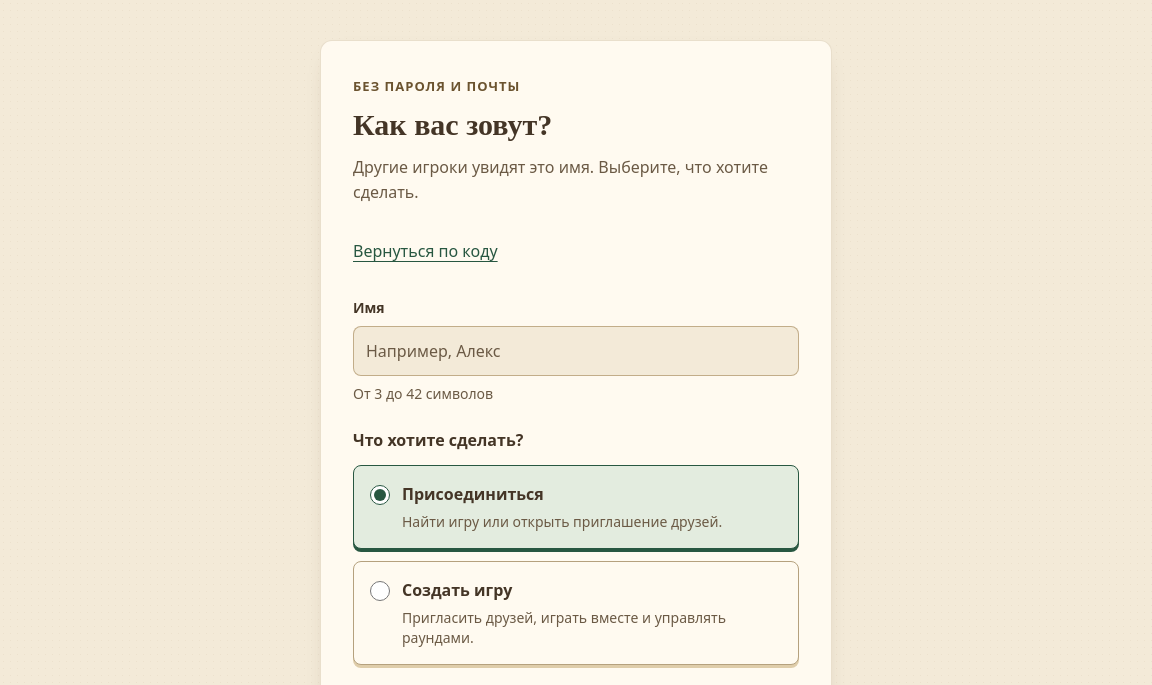
Register › shows backend 400 message
The width and height of the screenshot is (1152, 685).
Type "Alice" into the field labelled "Имя". click: (576, 351)
box: [353,326,799,376]
(page scrolled)
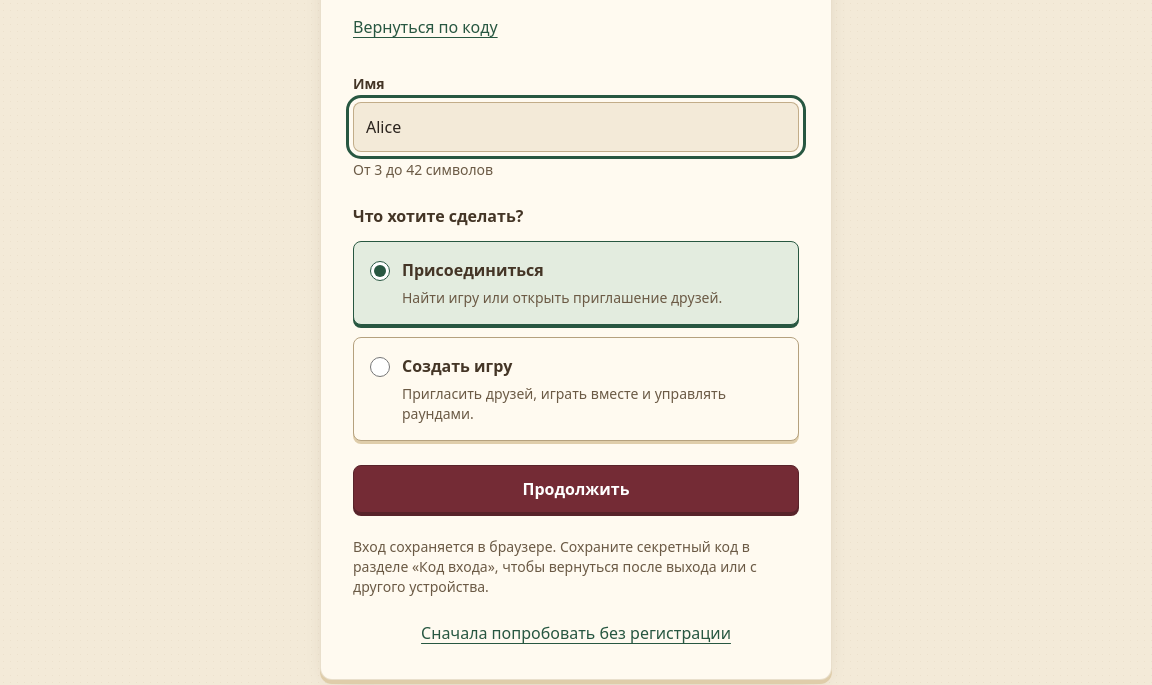
Click the button "Продолжить". click: (576, 489)
box: [353,465,799,513]
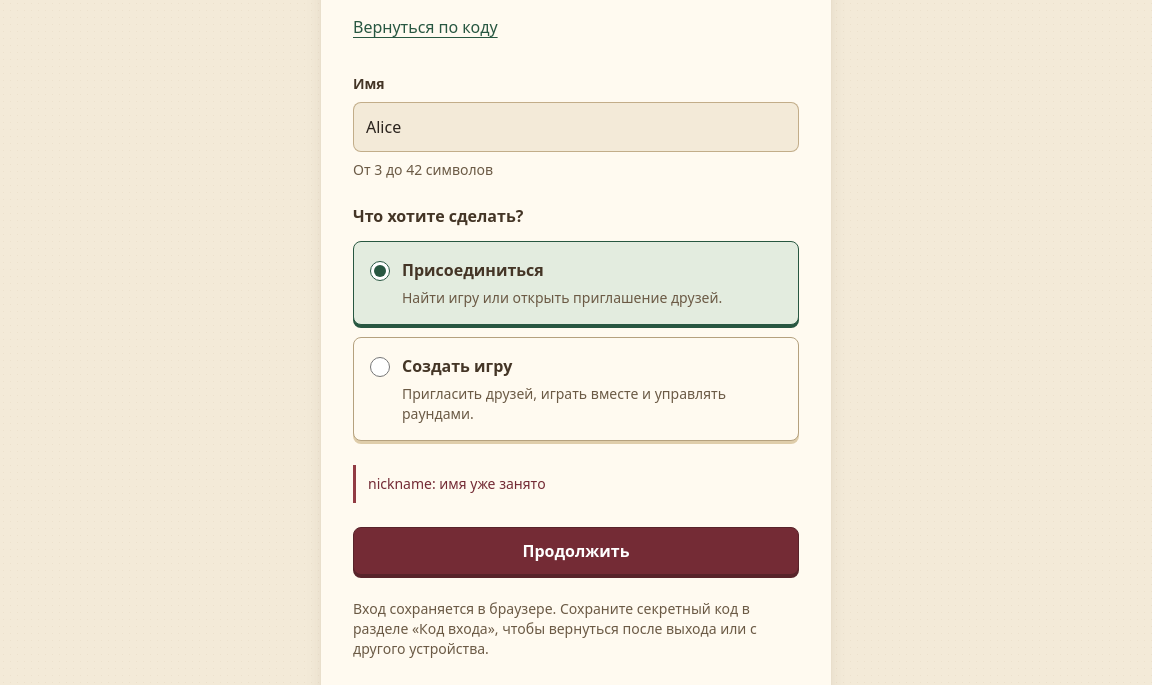
Result: the message shows "имя уже занято" at [368,474,546,493]
